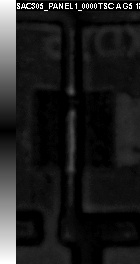led: (33, 89, 117, 171)
